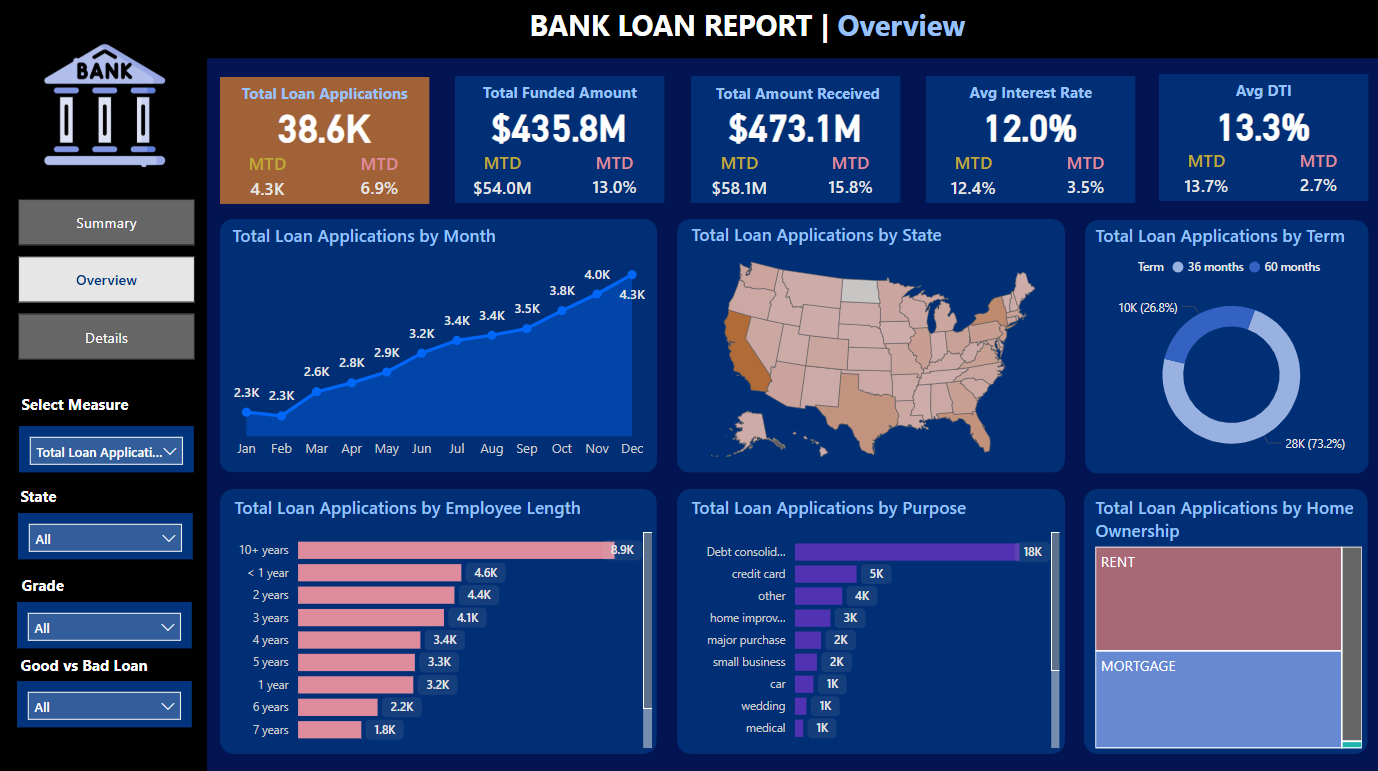

The page's visual inventory and layout, read from the dashboard file:
{"tool":"powerbi","page":{"name":"Overview","canvas":[1280,720],"ordinal":1},"visuals":[{"type":"shape","box":[0,54.7,192,664.4],"z":0},{"type":"shape","box":[1074,69.9,194.2,117.6],"z":0,"group":"g5"},{"type":"shape","box":[857.6,71,194.2,117.6],"z":0,"group":"g4"},{"type":"shape","box":[421.8,71.5,194.2,117.6],"z":0,"group":"g2"},{"type":"shape","box":[640.2,71.5,194.2,117.6],"z":0,"group":"g3"},{"type":"shape","box":[203.9,72.1,194.2,117.6],"z":0,"group":"g1"},{"type":"shape","box":[627.3,203.9,359.6,235.2],"z":0,"group":"g11"},{"type":"textbox","box":[14,602.5,211.8,30.3],"z":0,"group":"g10"},{"type":"card","fields":{"Values":["public bank_loan.Total Funded Amount"]},"box":[420.9,88.7,194.3,55.9],"z":1000,"group":"g2"},{"type":"card","fields":{"Values":["public bank_loan.Total Amount Received"]},"box":[639.3,88.7,194.3,55.9],"z":1000,"group":"g3"},{"type":"card","fields":{"Values":["public bank_loan.Avg Interest Rate"]},"box":[856.7,88.7,194.3,55.9],"z":1000,"group":"g4"},{"type":"card","fields":{"Values":["public bank_loan.Total Loan Applications"]},"box":[203,88.8,194.4,56.7],"z":1000,"group":"g1"},{"type":"card","fields":{"Values":["public bank_loan.Avg DTI"]},"box":[1073.1,88.8,194.3,55.9],"z":1000,"group":"g5"},{"type":"shapeMap","fields":{"Value":["public bank_loan.Total Loan Applications"],"Category":["public bank_loan.address_state"]},"box":[635.7,207.8,346.8,231.6],"z":1000,"group":"g11"},{"type":"shape","box":[627.2,453.8,359.6,245.5],"z":1000},{"type":"textbox","box":[15.1,528.3,82.6,30.3],"z":1000,"group":"g7"},{"type":"slicer","fields":{"Values":["public bank_loan.Good vs Bad Loan"]},"box":[16.3,631.9,161.7,43.1],"z":1000,"group":"g10"},{"type":"shape","box":[0,0,1280,54.9],"z":2000},{"type":"textbox","box":[1073.6,70,194.2,29.8],"z":2000,"group":"g5"},{"type":"textbox","box":[857.2,71.1,194.2,29.8],"z":2000,"group":"g4"},{"type":"textbox","box":[421.4,71.6,194.2,29.8],"z":2000,"group":"g2"},{"type":"textbox","box":[638,72,201.7,29.9],"z":2000,"group":"g3"},{"type":"textbox","box":[203.5,72.2,194.2,29.8],"z":2000,"group":"g1"},{"type":"card","title":"MTD","fields":{"Values":["public bank_loan.MTD DTI"]},"box":[1081.8,139.8,72.9,46.2],"z":3000,"group":"g5"},{"type":"card","title":"MTD","fields":{"Values":["public bank_loan.MTD Interest Rate"]},"box":[865.4,140.9,72.9,46.2],"z":3000,"group":"g4"},{"type":"card","title":"MTD","fields":{"Values":["public bank_loan.MTD Funded Amount"]},"box":[429.6,141.4,72.9,46.2],"z":3000,"group":"g2"},{"type":"card","title":"MTD","fields":{"Values":["public bank_loan.MTD Amount Received"]},"box":[648.1,141.4,72.9,46.2],"z":3000,"group":"g3"},{"type":"card","title":"MTD","fields":{"Values":["public bank_loan.MTD Loan Applications"]},"box":[211.7,142,72.9,46.2],"z":3000,"group":"g1"},{"type":"shape","box":[203.7,203.4,405,235],"z":3000},{"type":"slicer","fields":{"Values":["public bank_loan.grade"]},"box":[16.4,558.6,161.7,43.1],"z":3000,"group":"g7"},{"type":"card","title":"MTD","fields":{"Values":["public bank_loan.MoM Avg DTI"]},"box":[1184.8,139.7,73.3,46.5],"z":4000,"group":"g5"},{"type":"card","title":"MTD","fields":{"Values":["public bank_loan.MoM Avg Interest Rate"]},"box":[968.4,140.8,73.3,46.5],"z":4000,"group":"g4"},{"type":"card","title":"MTD","fields":{"Values":["public bank_loan.MoM Funded Amount"]},"box":[532.6,141.3,73.3,46.5],"z":4000,"group":"g2"},{"type":"card","title":"MTD","fields":{"Values":["public bank_loan.MoM Amount Received"]},"box":[751,141.3,73.3,46.5],"z":4000,"group":"g3"},{"type":"card","title":"MTD","fields":{"Values":["public bank_loan.MoM Loan Application"]},"box":[314.7,141.9,73.3,46.5],"z":4000,"group":"g1"},{"type":"textbox","box":[387.3,214.7,11.3,29.8],"z":4000},{"type":"group","id":"g1","title":"Group 1","box":[203,72.1,195.1,117.6],"z":5000},{"type":"group","id":"g2","title":"Group 1","box":[420.9,71.5,195.1,117.6],"z":6000},{"type":"textbox","box":[14,445.7,83.8,30.3],"z":6000,"group":"g8"},{"type":"textbox","box":[485.9,0,450,58.6],"z":7000},{"type":"group","id":"g3","title":"Group 1","box":[638,71.5,201.7,117.6],"z":8000},{"type":"group","id":"g4","title":"Group 1","box":[856.7,71,195.1,117.6],"z":9000},{"type":"group","id":"g5","title":"Group 1","box":[1073.1,69.9,195.1,117.6],"z":10000},{"type":"textbox","box":[223.9,482.6,196.9,29.9],"z":11000},{"type":"group","id":"g6","title":"Group 4","box":[14,602.5,211.8,72.4],"z":12000},{"type":"group","id":"g7","title":"Group 3","box":[15.1,528.3,162.9,73.3],"z":13000},{"type":"group","id":"g8","title":"Group 5","box":[14,445.7,164.1,73.3],"z":14000},{"type":"areaChart","fields":{"Y":["public bank_loan.Total Loan Applications"],"Category":["Date Table.Month"]},"box":[210.6,208.3,393.3,225.7],"z":15000},{"type":"group","id":"g9","title":"Group 6","box":[15.1,360.7,164.1,78],"z":16000},{"type":"slicer","fields":{"Values":["Select Measure.Select Measure"]},"box":[17.8,396.1,161.7,43.1],"z":16000,"group":"g9"},{"type":"shape","box":[1005.4,204.8,263,235.1],"z":17000},{"type":"slicer","fields":{"Values":["public bank_loan.address_state"]},"box":[16.7,476.1,161.7,43.1],"z":17000,"group":"g8"},{"type":"textbox","box":[15.1,360.7,164.1,34.9],"z":17001,"group":"g9"},{"type":"group","id":"g10","title":"Group 2","box":[14,602.5,211.8,72.4],"z":17002,"group":"g6"},{"type":"group","id":"g11","title":"Group 7","box":[627.3,203.9,359.6,235.4],"z":18000},{"type":"donutChart","fields":{"Y":["public bank_loan.Total Loan Applications"],"Category":["public bank_loan.term"]},"box":[1009.8,208.5,262,231.1],"z":19000},{"type":"shape","box":[203.4,454.1,404.8,245.5],"z":20000},{"type":"barChart","fields":{"Y":["public bank_loan.Total Loan Applications"],"Category":["public bank_loan.emp_length"]},"box":[211.8,460.8,396.8,238.5],"z":21000},{"type":"barChart","fields":{"Y":["public bank_loan.Total Loan Applications"],"Category":["public bank_loan.purpose"]},"box":[635.3,460.8,351.4,238.5],"z":22000},{"type":"shape","box":[1004.2,453.8,263,245.5],"z":23000},{"type":"treemap","fields":{"Values":["public bank_loan.Total Loan Applications"],"Group":["public bank_loan.home_ownership"]},"box":[1010,460.8,257.2,238.5],"z":24000},{"type":"image","box":[30.9,33.8,133.2,129.3],"z":24001},{"type":"pageNavigator","box":[16.4,184.9,164.4,150],"z":24002}]}

Visuals, with their boxes in screenshot pixels (x1, y1, x2, y2), scaled from the page's 1280x720 canvas onto the 1378x771 screenshot:
shape: crop(0, 59, 207, 770)
shape: crop(1156, 75, 1365, 201)
shape: crop(923, 76, 1132, 202)
shape: crop(454, 77, 663, 202)
shape: crop(689, 77, 898, 202)
shape: crop(220, 77, 429, 203)
shape: crop(675, 218, 1062, 470)
textbox: crop(15, 645, 243, 678)
card - public bank_loan.Total Funded Amount: crop(453, 95, 662, 155)
card - public bank_loan.Total Amount Received: crop(688, 95, 897, 155)
card - public bank_loan.Avg Interest Rate: crop(922, 95, 1131, 155)
card - public bank_loan.Total Loan Applications: crop(219, 95, 428, 156)
card - public bank_loan.Avg DTI: crop(1155, 95, 1364, 155)
shapeMap - public bank_loan.Total Loan Applications x public bank_loan.address_state: crop(684, 223, 1058, 471)
shape: crop(675, 486, 1062, 749)
textbox: crop(16, 566, 105, 598)
slicer - public bank_loan.Good vs Bad Loan: crop(18, 677, 192, 723)
shape: crop(0, 0, 1377, 59)
textbox: crop(1156, 75, 1365, 107)
textbox: crop(923, 76, 1132, 108)
textbox: crop(454, 77, 663, 109)
textbox: crop(687, 77, 904, 109)
textbox: crop(219, 77, 428, 109)
"MTD" card: crop(1165, 150, 1243, 199)
"MTD" card: crop(932, 151, 1010, 200)
"MTD" card: crop(462, 151, 541, 201)
"MTD" card: crop(698, 151, 776, 201)
"MTD" card: crop(228, 152, 306, 202)
shape: crop(219, 218, 655, 469)
slicer - public bank_loan.grade: crop(18, 598, 192, 644)
"MTD" card: crop(1276, 150, 1354, 199)
"MTD" card: crop(1043, 151, 1121, 201)
"MTD" card: crop(573, 151, 652, 201)
"MTD" card: crop(808, 151, 887, 201)
"MTD" card: crop(339, 152, 418, 202)
textbox: crop(417, 230, 429, 262)
"Group 1" group: crop(219, 77, 429, 203)
"Group 1" group: crop(453, 77, 663, 202)
textbox: crop(15, 477, 105, 510)
textbox: crop(523, 0, 1008, 63)
"Group 1" group: crop(687, 77, 904, 202)
"Group 1" group: crop(922, 76, 1132, 202)
"Group 1" group: crop(1155, 75, 1365, 201)
textbox: crop(241, 517, 453, 549)
"Group 4" group: crop(15, 645, 243, 723)
"Group 3" group: crop(16, 566, 192, 644)
"Group 5" group: crop(15, 477, 192, 556)
areaChart - public bank_loan.Total Loan Applications x Date Table.Month: crop(227, 223, 650, 465)
"Group 6" group: crop(16, 386, 193, 470)
slicer - Select Measure.Select Measure: crop(19, 424, 193, 470)
shape: crop(1082, 219, 1366, 471)
slicer - public bank_loan.address_state: crop(18, 510, 192, 556)
textbox: crop(16, 386, 193, 424)
"Group 2" group: crop(15, 645, 243, 723)
"Group 7" group: crop(675, 218, 1062, 470)
donutChart - public bank_loan.Total Loan Applications x public bank_loan.term: crop(1087, 223, 1369, 471)
shape: crop(219, 486, 655, 749)
barChart - public bank_loan.Total Loan Applications x public bank_loan.emp_length: crop(228, 493, 655, 749)
barChart - public bank_loan.Total Loan Applications x public bank_loan.purpose: crop(684, 493, 1062, 749)
shape: crop(1081, 486, 1364, 749)
treemap - public bank_loan.Total Loan Applications x public bank_loan.home_ownership: crop(1087, 493, 1364, 749)
image: crop(33, 36, 177, 175)
pageNavigator: crop(18, 198, 195, 359)
